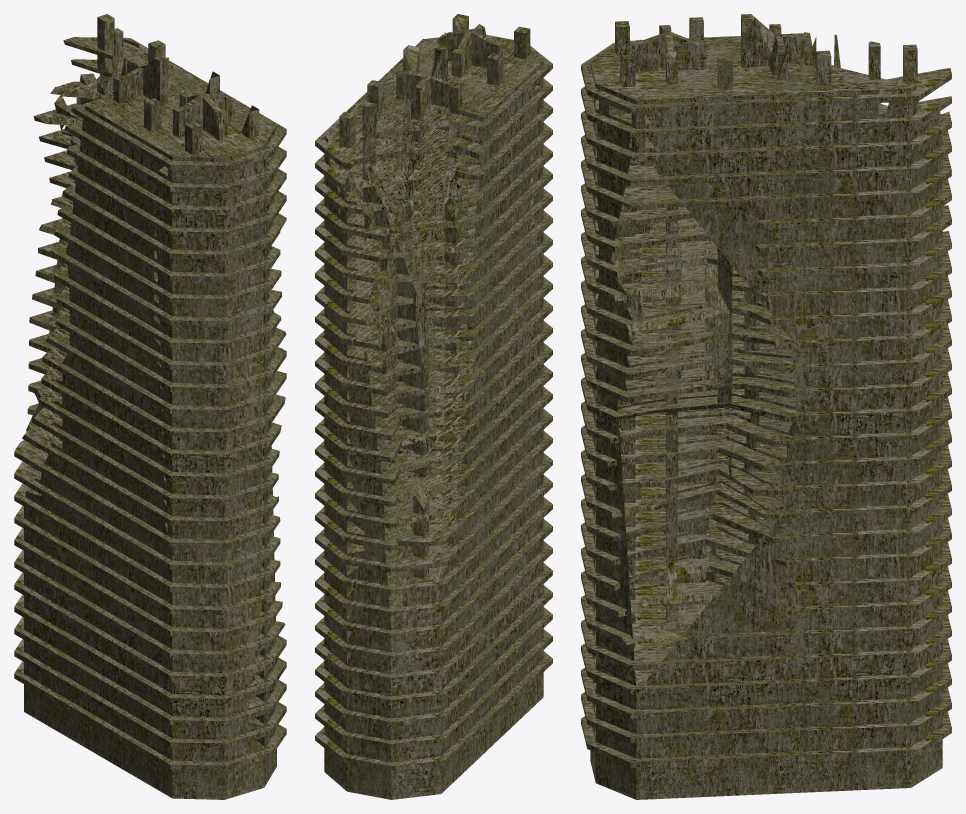
The model's file is Building_3.fbx.
3 renders of one model, left to right at view 1: azimuth 30°, elevation 25°; view 2: azimuth 150°, elevation 25°; view 3: azimuth 270°, elevation 25°, orthographic. The views are drawn at different scales.
Visible parts, largest first — view 1: Plane.003; view 2: Plane.003; view 3: Plane.003.
Boxes of the visible parts, bbox=[...] form: Plane.003: bbox=[14, 14, 286, 799]; Plane.003: bbox=[315, 14, 552, 799]; Plane.003: bbox=[581, 14, 951, 799].
Size of the model in its own units: 458 by 2036 by 914.
